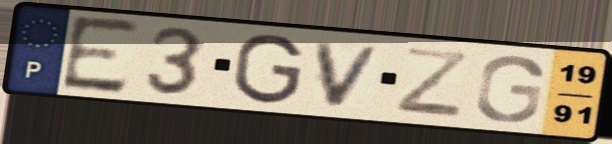3: (142, 25, 210, 98)
E: (57, 13, 144, 97)
G: (230, 32, 307, 106), (472, 54, 547, 125)
V: (312, 40, 389, 110)
Z: (392, 45, 472, 121)
